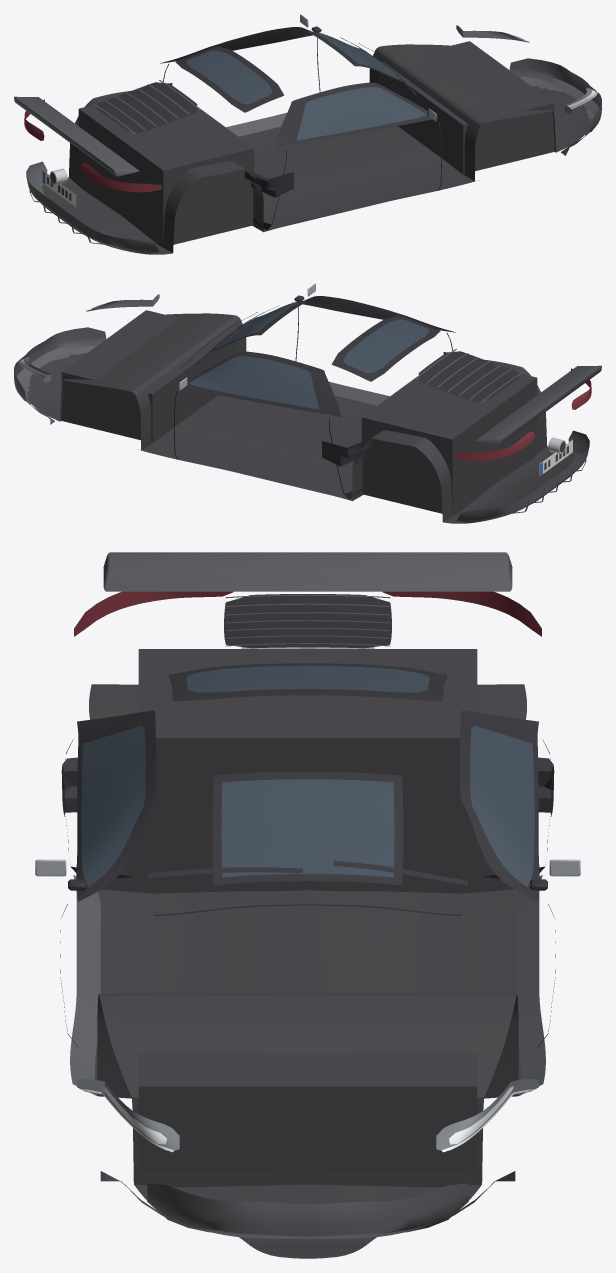
File: car_hyper_detail.glb
The picture shows the model from 3 angles, top to bottom: view 1: azimuth 30°, elevation 25°; view 2: azimuth 150°, elevation 25°; view 3: azimuth 270°, elevation 25°; orthographic projection. The views are drawn at different scales.
Visible parts, largest first — view 1: hyper_detail_Under, hyper_detail_Frit, hyper_detail_CarGlass, hyper_detail_Plastic, hyper_detail_Carbon, hyper_detail_TailDark, hyper_detail_LampHousing, hyper_detail_Seam; view 2: hyper_detail_Under, hyper_detail_Frit, hyper_detail_CarGlass, hyper_detail_Plastic, hyper_detail_Carbon, hyper_detail_TailDark, hyper_detail_LampHousing, hyper_detail_Seam; view 3: hyper_detail_Under, hyper_detail_CarGlass, hyper_detail_Frit, hyper_detail_Plastic, hyper_detail_Carbon, hyper_detail_TailDark, hyper_detail_LampHousing, hyper_detail_MirrorGlass, hyper_detail_Lens, hyper_detail_Seam.
Boxes of the visible parts, x1,y1,x2,y2 form: hyper_detail_Under: (32,41,591,254); hyper_detail_Frit: (97,26,438,197); hyper_detail_CarGlass: (186,32,426,140); hyper_detail_Plastic: (26,58,601,254); hyper_detail_Carbon: (14,80,200,244); hyper_detail_TailDark: (24,99,161,192); hyper_detail_LampHousing: (456,25,596,113); hyper_detail_Seam: (163,38,441,230); hyper_detail_Under: (27,310,583,523); hyper_detail_Frit: (177,295,518,466); hyper_detail_CarGlass: (189,301,429,409); hyper_detail_Plastic: (14,327,589,523); hyper_detail_Carbon: (415,349,601,513); hyper_detail_TailDark: (454,368,591,461); hyper_detail_LampHousing: (19,294,159,382); hyper_detail_Seam: (174,307,452,499); hyper_detail_Under: (89,649,526,1258); hyper_detail_CarGlass: (81,666,534,886); hyper_detail_Frit: (61,594,554,901); hyper_detail_Plastic: (70,875,545,1238); hyper_detail_Carbon: (103,552,512,646); hyper_detail_TailDark: (74,591,541,636); hyper_detail_LampHousing: (77,1078,538,1150); hyper_detail_MirrorGlass: (35,859,580,876); hyper_detail_Lens: (102,1086,513,1144); hyper_detail_Seam: (60,739,555,1046).
Bounding box in the file's own units: 4.78 × 1.04 × 2.12.
